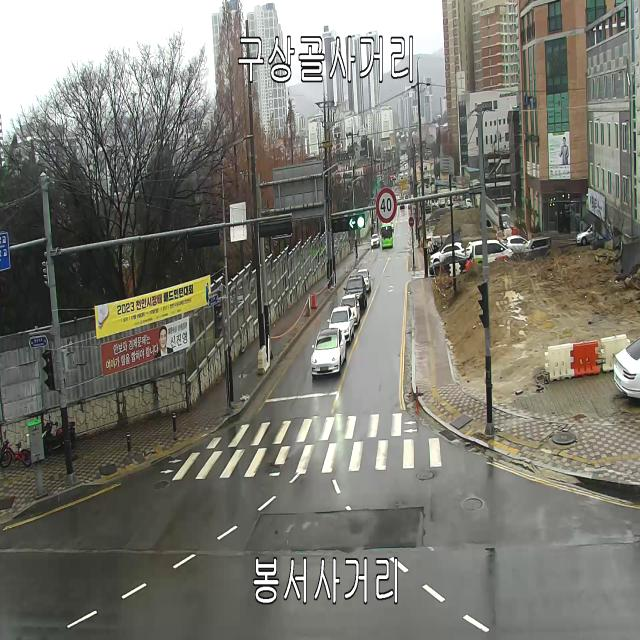Bus: (380, 222, 394, 248)
Car: (310, 328, 346, 378), (613, 334, 640, 398), (327, 306, 354, 343), (471, 241, 513, 264), (343, 274, 367, 308), (430, 242, 465, 265), (429, 255, 467, 276), (340, 294, 360, 327), (524, 237, 552, 258), (576, 224, 593, 246), (357, 268, 371, 291), (370, 234, 380, 248), (460, 198, 472, 209), (466, 242, 472, 258)
